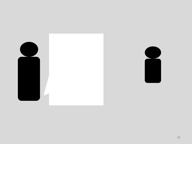left_oneway: (41, 29, 110, 110)
